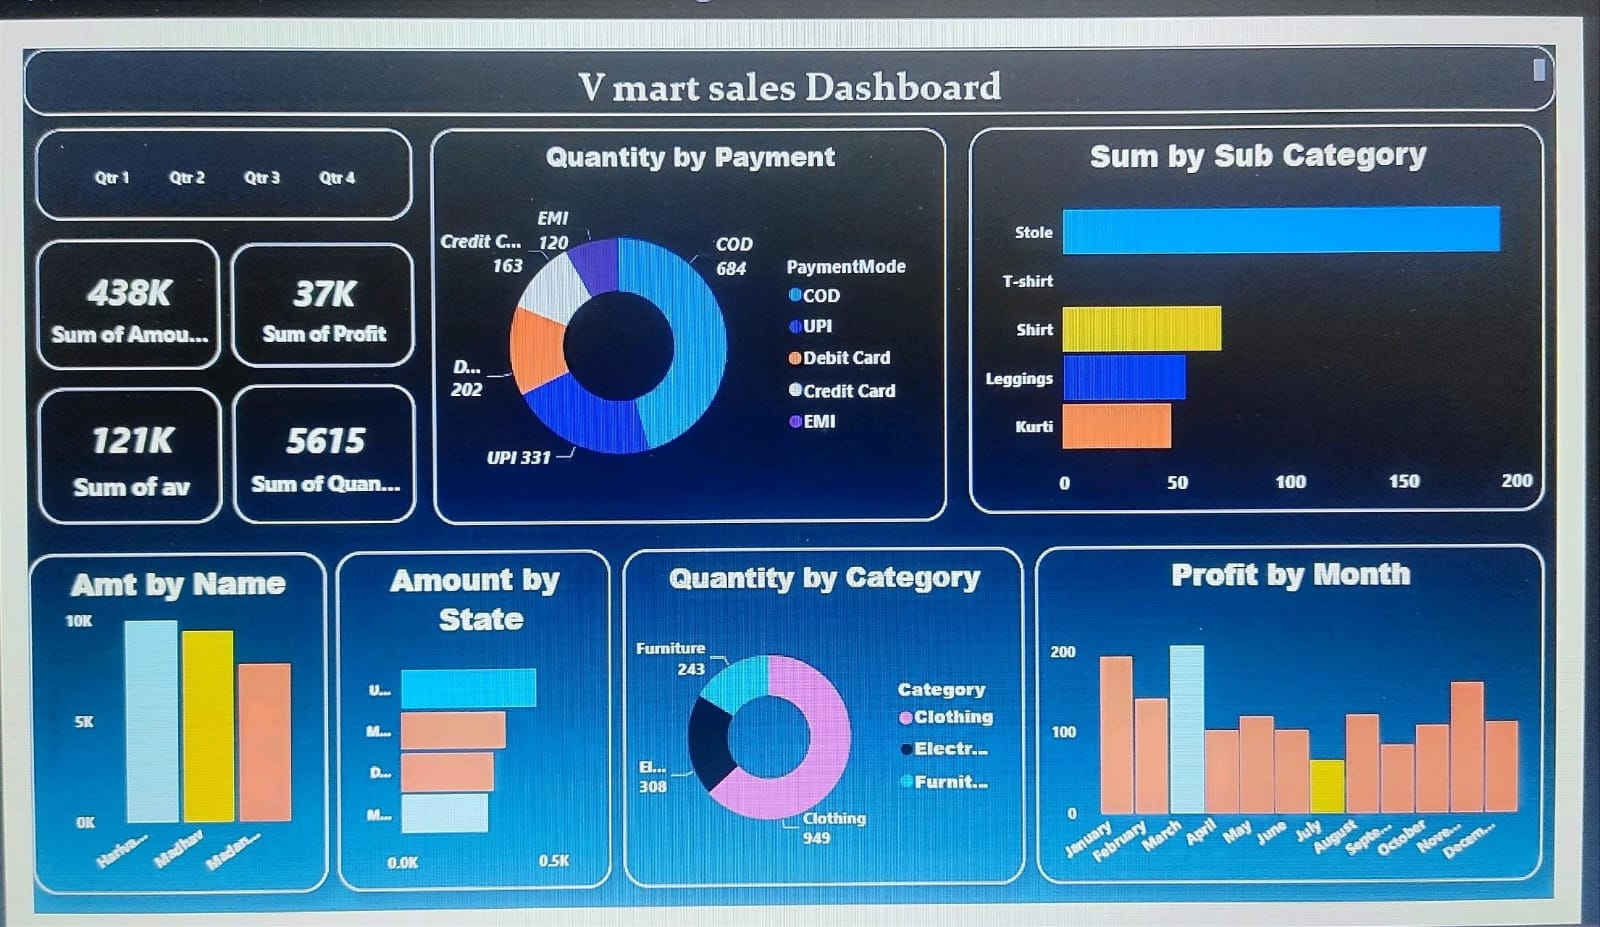

This screenshot's page, from the dashboard's own definition file:
{"tool":"powerbi","page":{"name":"Page 1","canvas":[1280,720],"ordinal":0},"visuals":[{"type":"textbox","box":[0,0,1280,55.4],"z":0},{"type":"columnChart","title":"Profit by Month","fields":{"Category":["Orders.Order Date.Variation.Date Hierarchy.Month"],"Y":["Details.Profit"]},"box":[841.9,419.5,426.6,284.9],"z":1000},{"type":"barChart","title":"Sum by Sub Category","fields":{"Category":["Details.Sub-Category"],"Y":["Details.Profit"]},"box":[786.6,66.6,481.9,324.6],"z":2000},{"type":"donutChart","title":"Quantity by Category","fields":{"Category":["Details.Category"],"Y":["Details.Quantity"]},"box":[493.2,419.5,337.3,284.9],"z":3000},{"type":"donutChart","title":"Quantity by Payment","fields":{"Category":["Details.PaymentMode"],"Y":["Details.Quantity"]},"box":[335.9,66.6,430.9,330.2],"z":4000},{"type":"card","fields":{"Values":["Details.Amount"]},"box":[9.9,158.7,150.2,107.7],"z":5000},{"type":"card","fields":{"Values":["Details.Profit"]},"box":[170.4,161.6,150,101.9],"z":6000},{"type":"card","fields":{"Values":["Details.Quantity"]},"box":[170.4,279.6,150,115],"z":7000},{"type":"card","fields":{"Values":["Details.av"]},"box":[9.9,282,150.2,112],"z":8000},{"type":"barChart","title":"Amount by State","fields":{"Category":["Orders.State"],"Y":["Details.Amount"]},"box":[253.7,419.5,228.2,284.9],"z":9000},{"type":"columnChart","title":"Amt by  Name","fields":{"Category":["Orders.CustomerName"],"Y":["Details.Amount"]},"box":[0,419.5,245.2,284.9],"z":10000},{"type":"slicer","fields":{"Values":["Orders.Order Date.Variation.Date Hierarchy.Quarter"]},"box":[9.9,66.6,310.4,75.1],"z":11000}]}

Visuals, with their boxes in screenshot pixels (x1, y1, x2, y2), scaled from the page's 1280x720 canvas onto the 1600x927 screenshot:
textbox: (left=0, top=0, right=1599, bottom=71)
"Profit by Month" columnChart: (left=1052, top=540, right=1586, bottom=907)
"Sum by Sub Category" barChart: (left=983, top=86, right=1586, bottom=504)
"Quantity by Category" donutChart: (left=616, top=540, right=1038, bottom=907)
"Quantity by Payment" donutChart: (left=420, top=86, right=958, bottom=511)
card - Details.Amount: (left=12, top=204, right=200, bottom=343)
card - Details.Profit: (left=213, top=208, right=400, bottom=339)
card - Details.Quantity: (left=213, top=360, right=400, bottom=508)
card - Details.av: (left=12, top=363, right=200, bottom=507)
"Amount by State" barChart: (left=317, top=540, right=602, bottom=907)
"Amt by  Name" columnChart: (left=0, top=540, right=306, bottom=907)
slicer - Orders.Order Date.Variation.Date Hierarchy.Quarter: (left=12, top=86, right=400, bottom=182)
